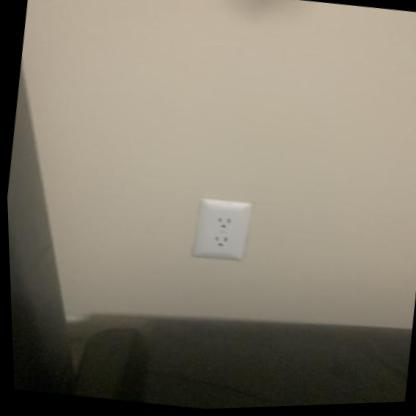OUTLET: (189, 195, 255, 264)
